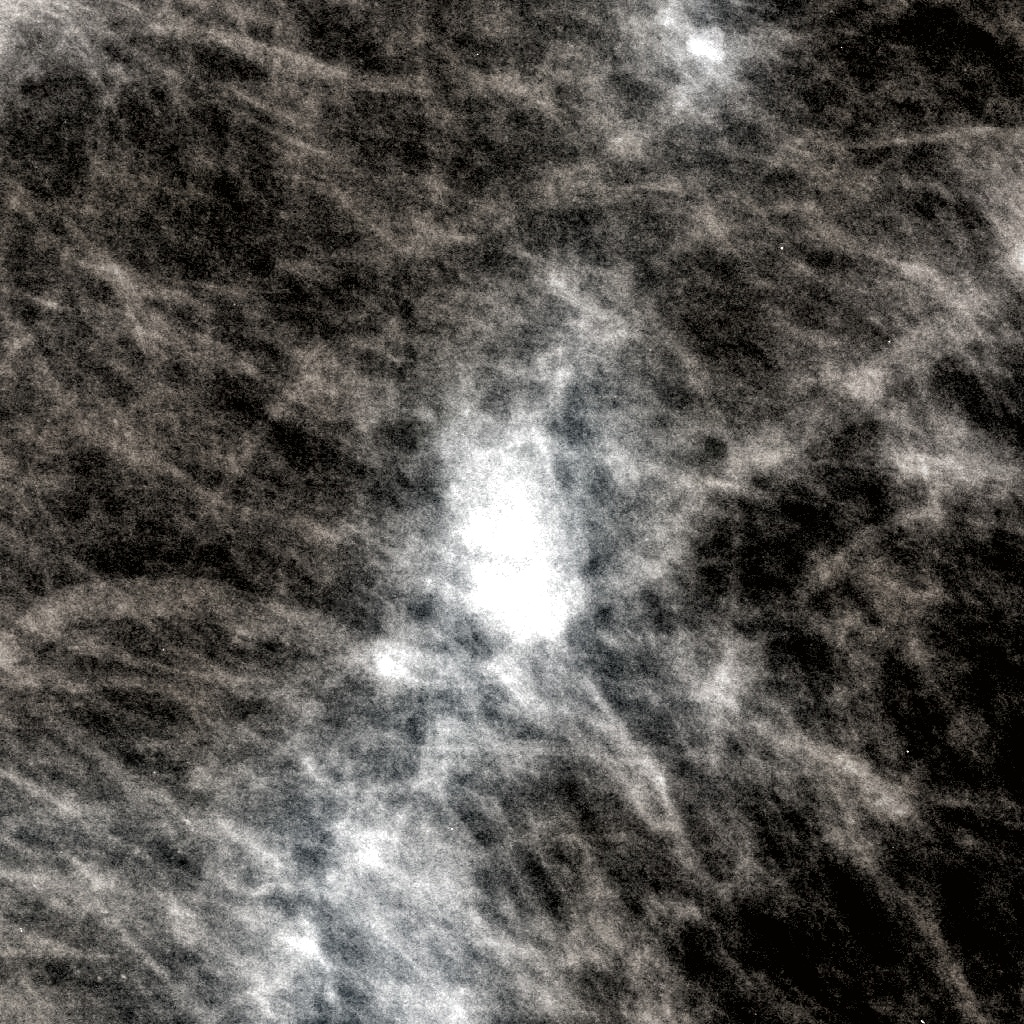tumor: (386, 345, 638, 679)
